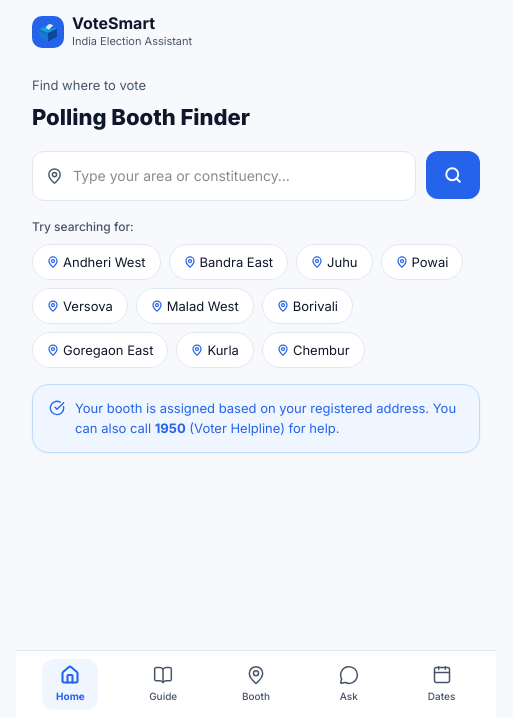
Test: BoothPage › shows empty state for unrecognised area
Type "Narnia Somewhere" into the search field with placeholder "Type your area or constituency…" at (224, 176), box [32,151,416,201]
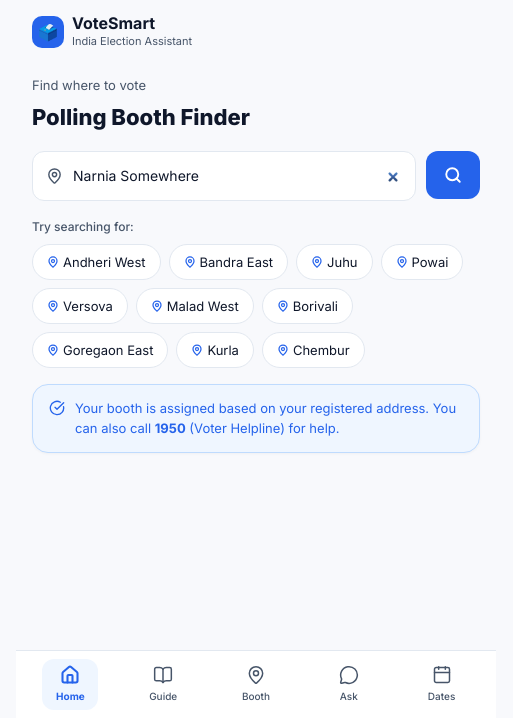
Press Enter
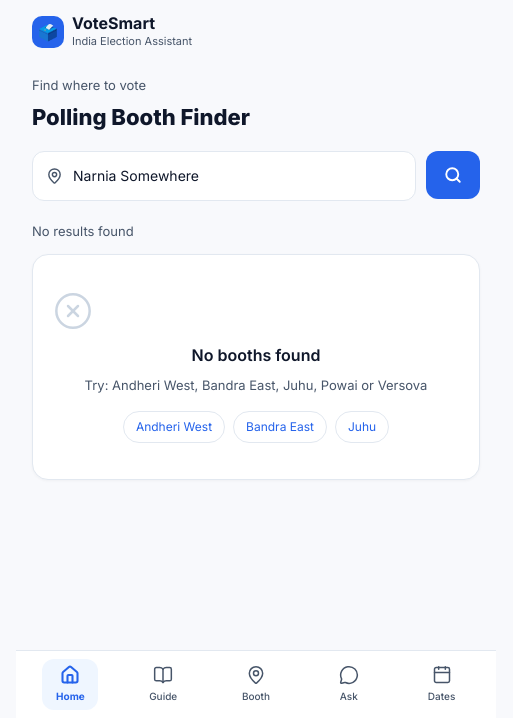
Expected: the text "No booths found" is shown, [192,345,320,365]
